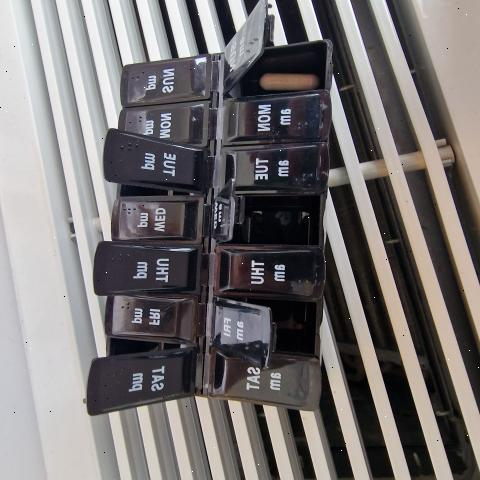Open: (229, 15, 325, 101), (221, 294, 322, 364), (231, 192, 318, 249), (95, 338, 190, 363), (101, 177, 204, 198)
